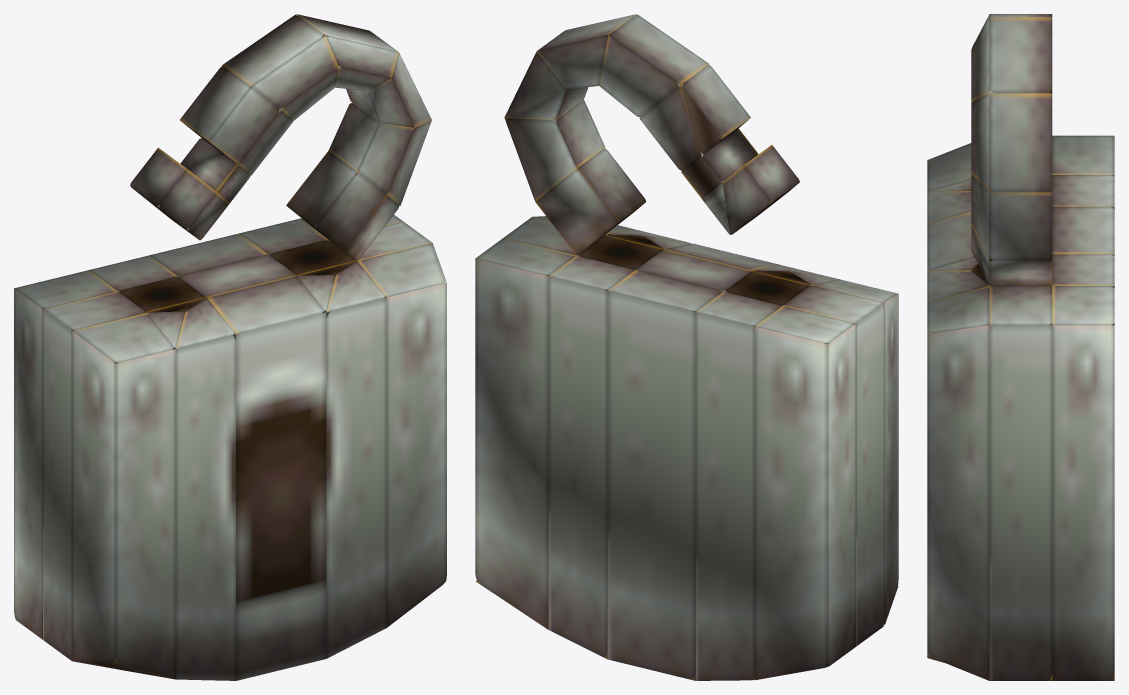
3 views of the same model, side by side, from view 1: azimuth 30°, elevation 25°; view 2: azimuth 150°, elevation 25°; view 3: azimuth 270°, elevation 25° (orthographic). The views are drawn at different scales.
Parts seen in each view (by area): view 1: T1L4M007_18; view 2: T1L4M007_18; view 3: T1L4M007_18.
Part boxes in pixels (<box>): T1L4M007_18: <box>14,14,446,680</box>; T1L4M007_18: <box>475,14,898,680</box>; T1L4M007_18: <box>927,14,1114,680</box>.
Bounding box in the file's own units: 0.4795 × 0.7764 × 0.2002.
1 material, 1 textured.
